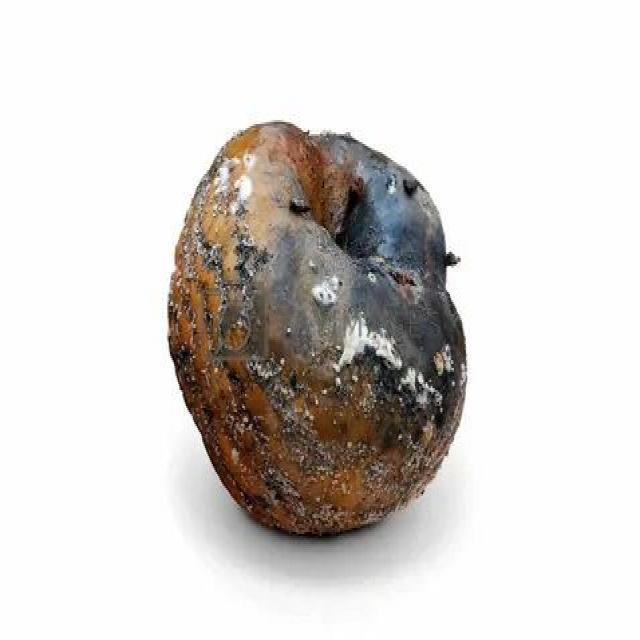Rotten: (160, 113, 477, 550)
